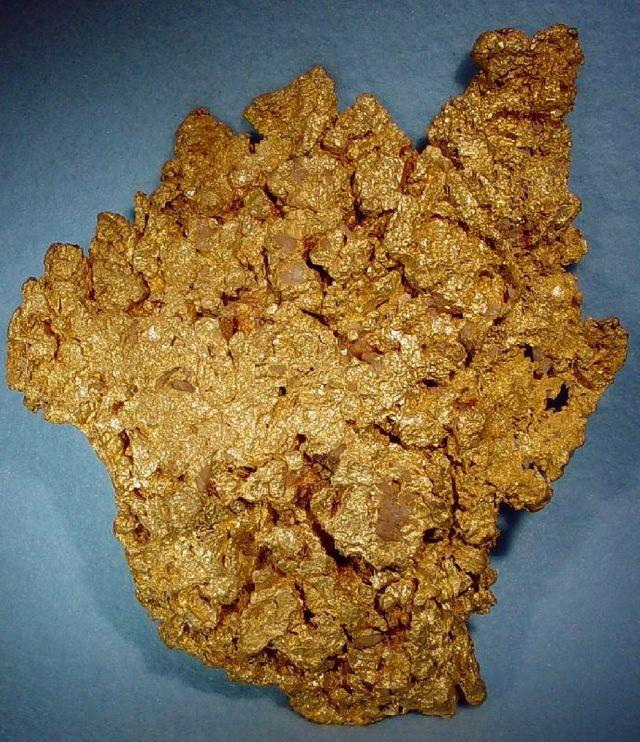gold: (3, 27, 638, 729)
